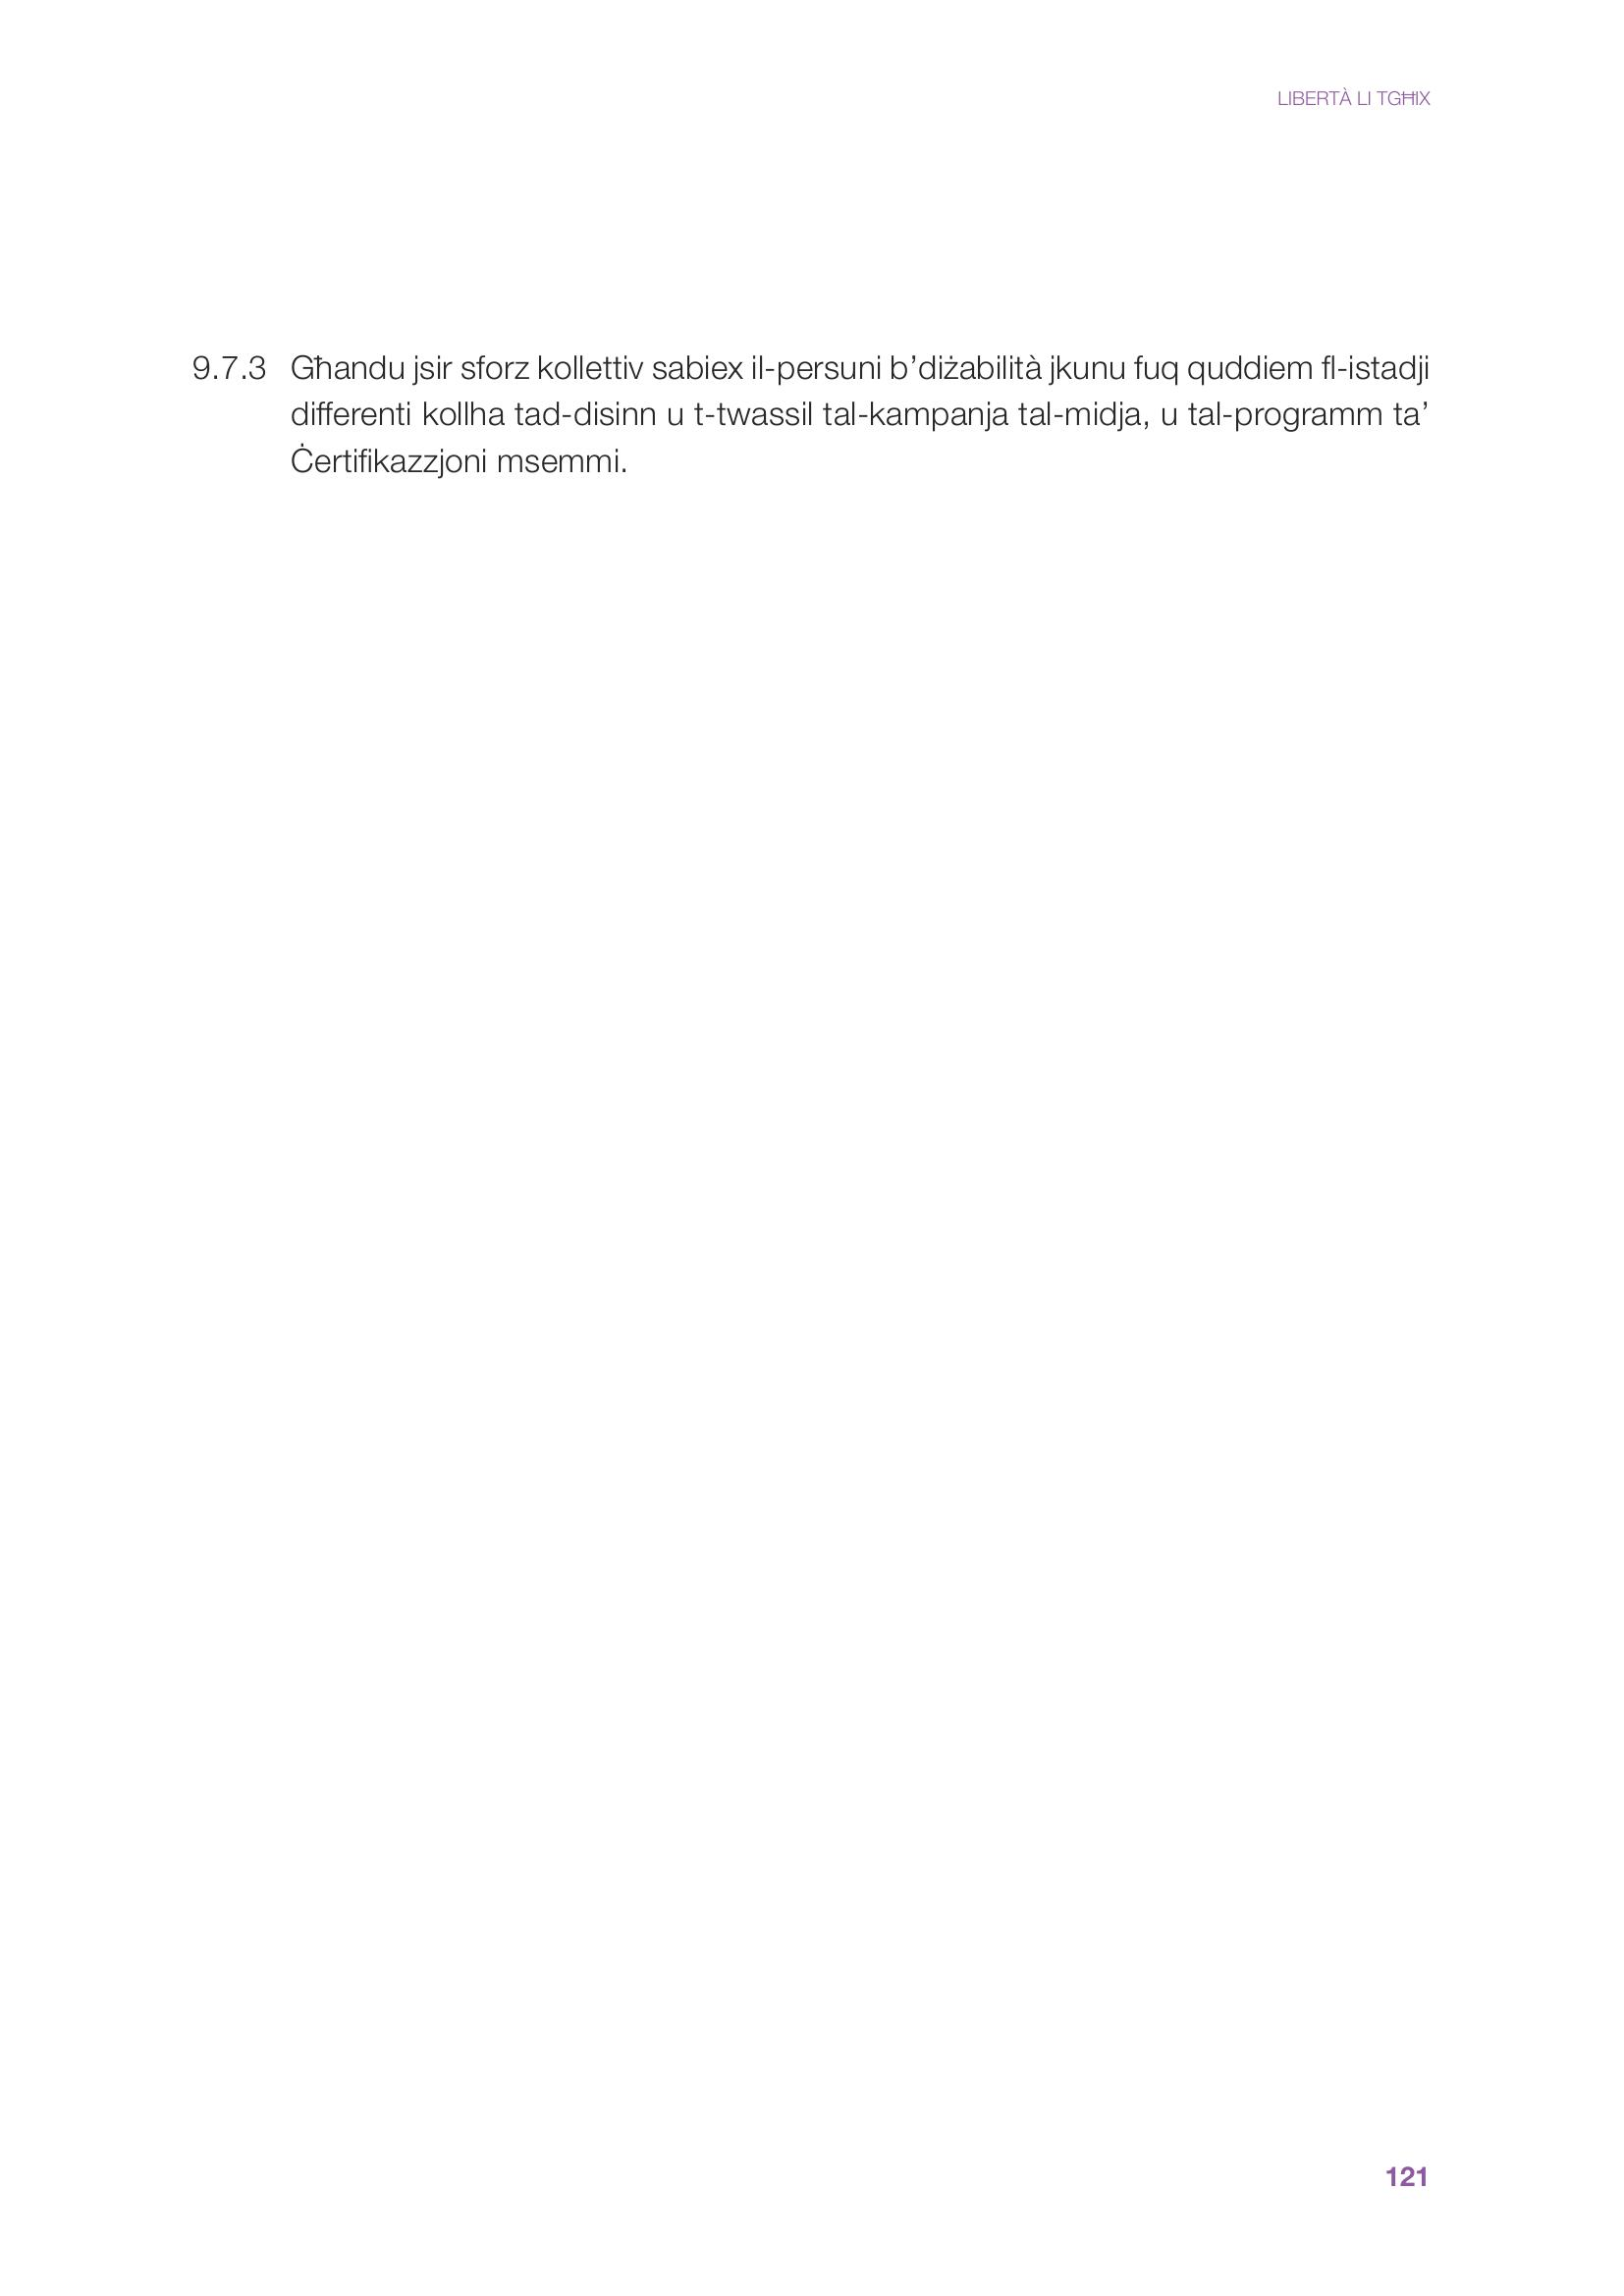text: (153, 329, 1459, 494)
